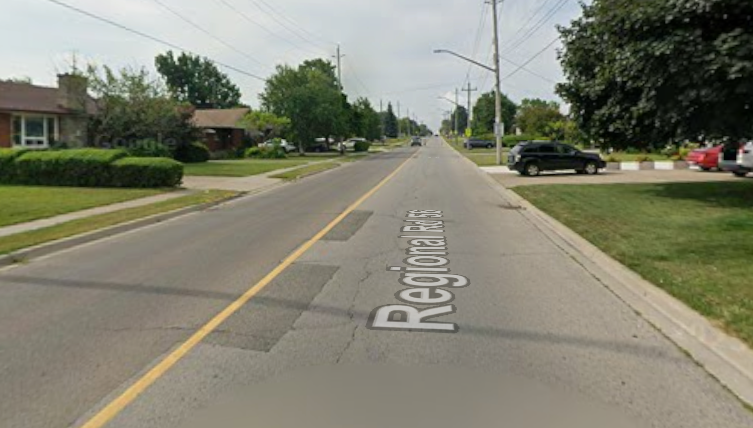cracks: (221, 242, 410, 374), (302, 203, 391, 245)
